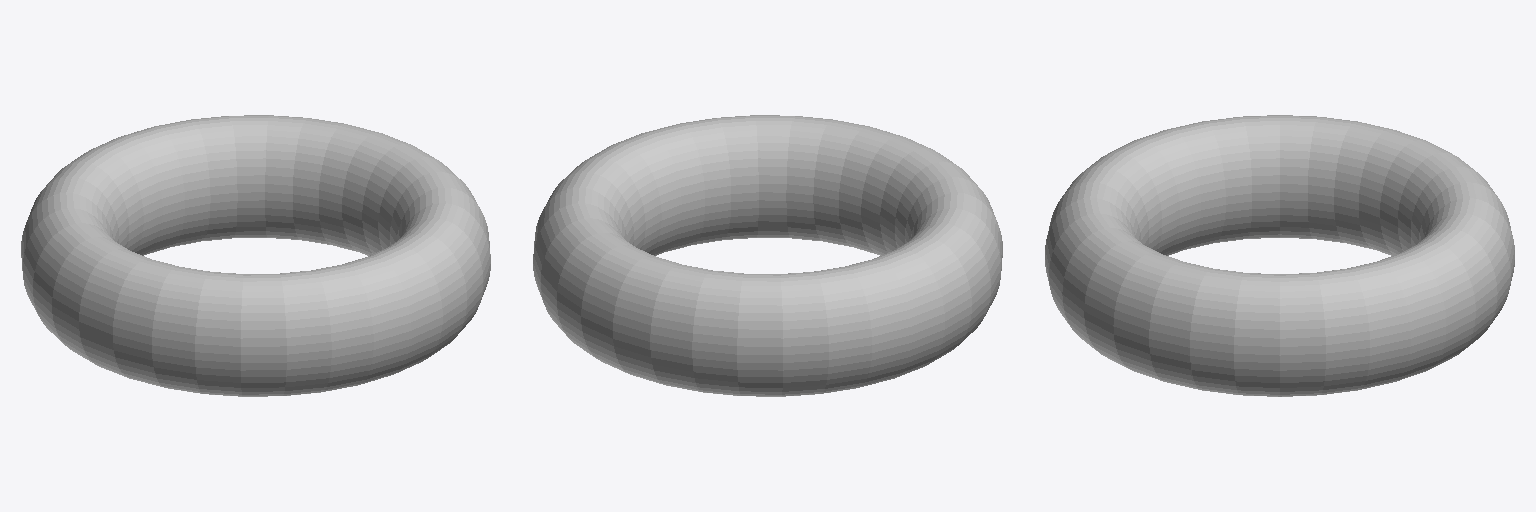
Rendered from Torus Hole.obj.
3 views of the same model, side by side, from view 1: azimuth 30°, elevation 25°; view 2: azimuth 150°, elevation 25°; view 3: azimuth 270°, elevation 25° (orthographic).
Visible parts, largest first — view 1: Torus Hole; view 2: Torus Hole; view 3: Torus Hole.
Part boxes in pixels (left/top/right/bottom): Torus Hole: left=21, top=115, right=490, bottom=396; Torus Hole: left=533, top=115, right=1002, bottom=396; Torus Hole: left=1045, top=115, right=1514, bottom=396.
Size of the model in its own units: 1 by 0.272 by 1.